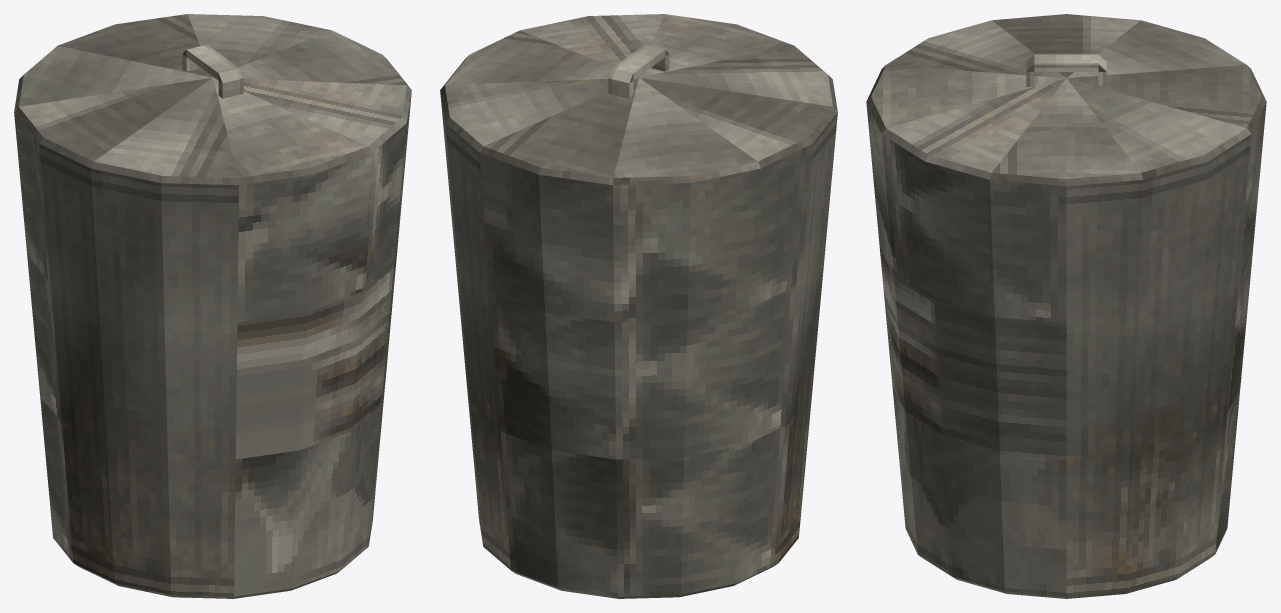
Rendered from trashcan.glb.
The picture shows the model from 3 angles, left to right: view 1: azimuth 30°, elevation 25°; view 2: azimuth 150°, elevation 25°; view 3: azimuth 270°, elevation 25°; orthographic projection.
Visible parts, largest first — view 1: trashcan; view 2: trashcan; view 3: trashcan.
Boxes of the visible parts, x1,y1,x2,y2 form: trashcan: (14, 14, 411, 598); trashcan: (440, 14, 837, 598); trashcan: (866, 14, 1266, 598).
Bounding box in the file's own units: 0.4989 × 0.6516 × 0.4989.
Materials: 1 (1 with a texture image).
